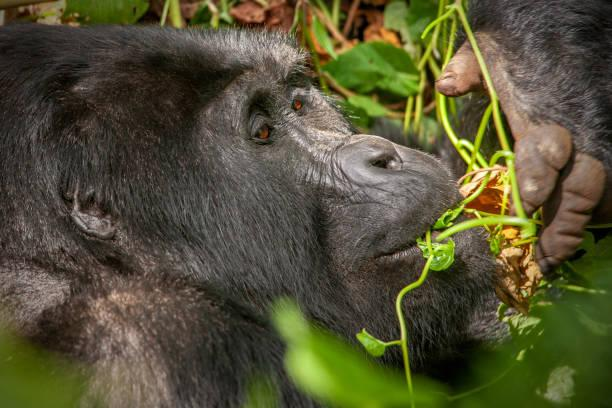goriile_montagne: (0, 13, 523, 408)
